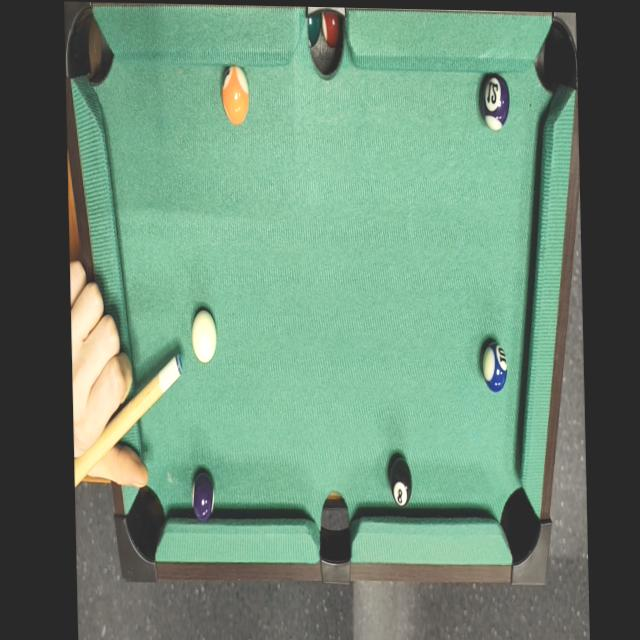cue ball: (191, 305, 222, 371)
other: (479, 68, 513, 137), (218, 58, 251, 126), (480, 333, 509, 394), (188, 469, 218, 526), (388, 455, 412, 506)
